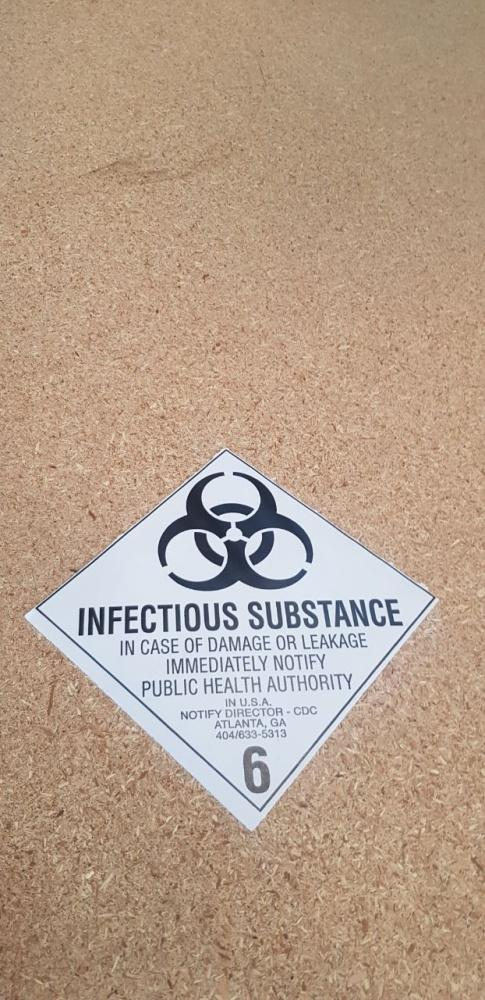infectious-substance: (31, 452, 443, 827)
